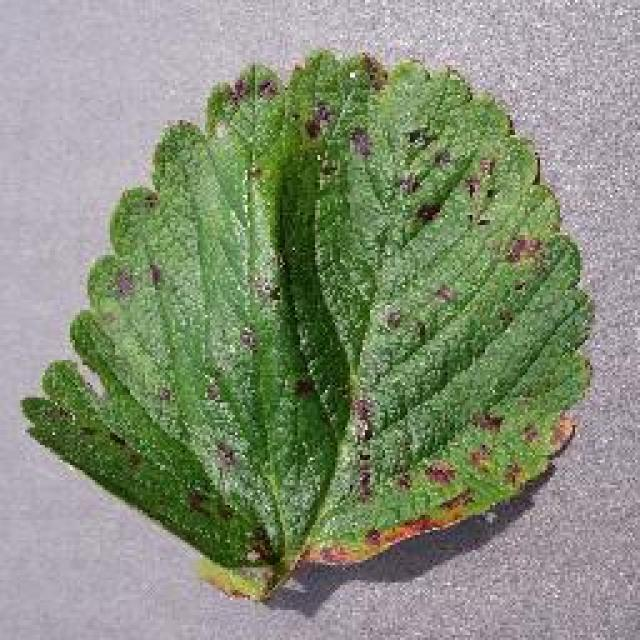Strawberry leaf scorch: (236, 110, 516, 495)
